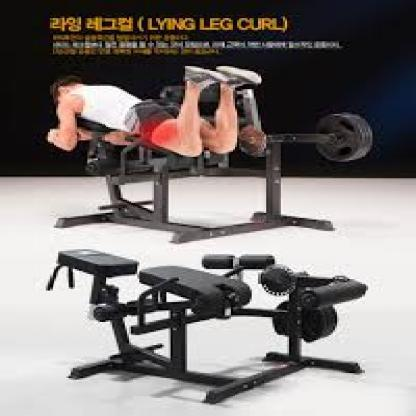reg curl machine: (33, 67, 377, 247)
